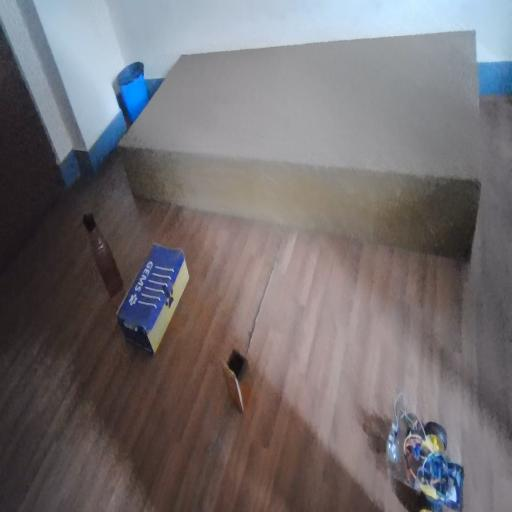Bottle: (79, 196, 126, 305)
car: (381, 397, 474, 512)
